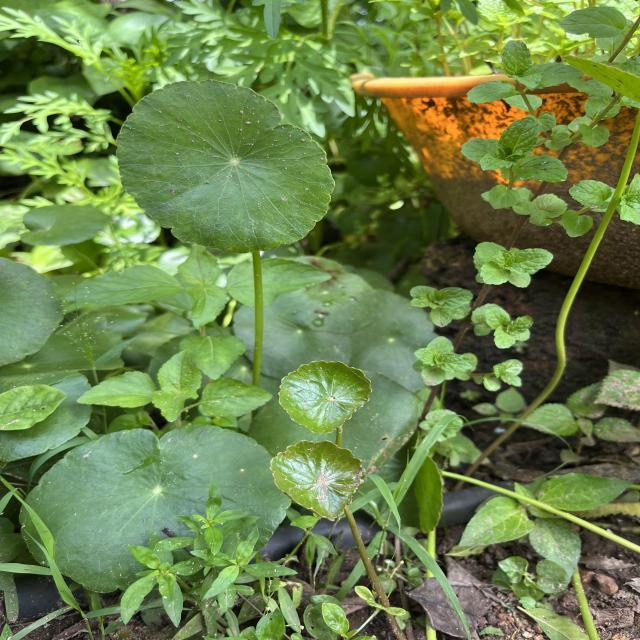Bacopa monnieri: (16, 420, 295, 596), (113, 76, 338, 256), (267, 437, 367, 524), (276, 358, 376, 436)
